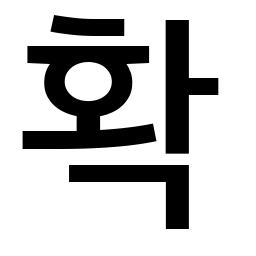Buri: (157, 14, 203, 41)
Gaji: (159, 66, 202, 107)
Kkeokim: (145, 158, 198, 193)
Kkokjijum: (44, 9, 131, 41)
